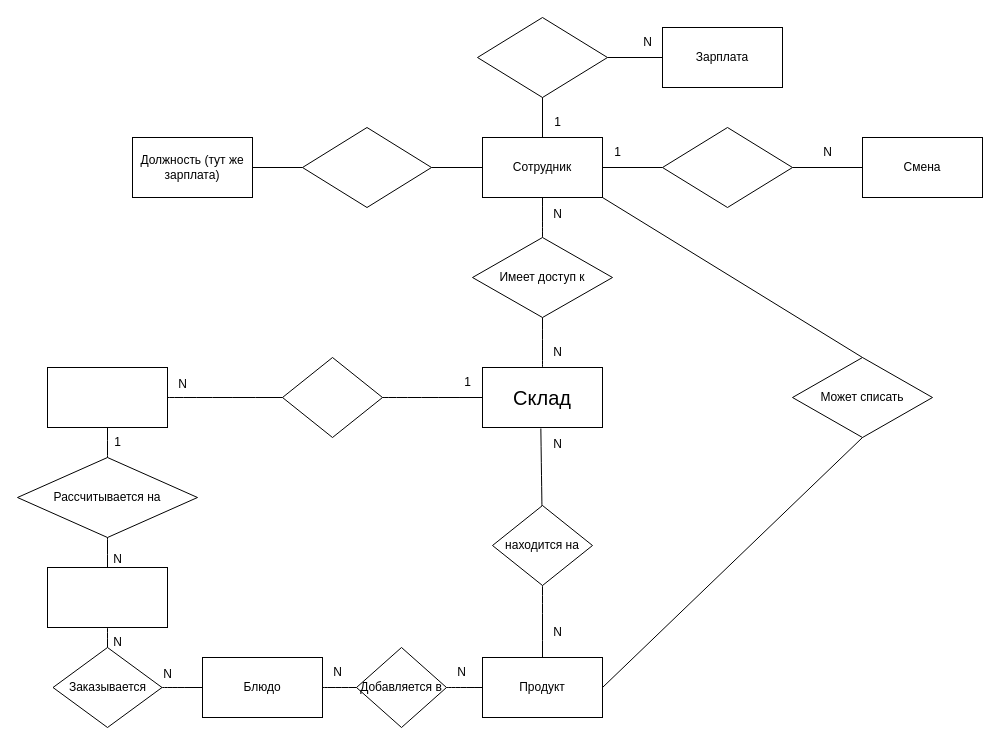
The diagram is 1000 pixels wide and 745 high, and some of its shapes have lost their labels. The shapes that lost their labels are listed below. From the top down, each one's centre as x and y in pixels, then its label:
point (542, 57): Получает
point (367, 167): Имеет
point (727, 167): Выходит на
point (107, 397): Касса
point (332, 397): Привязана к
point (107, 597): Заказ
